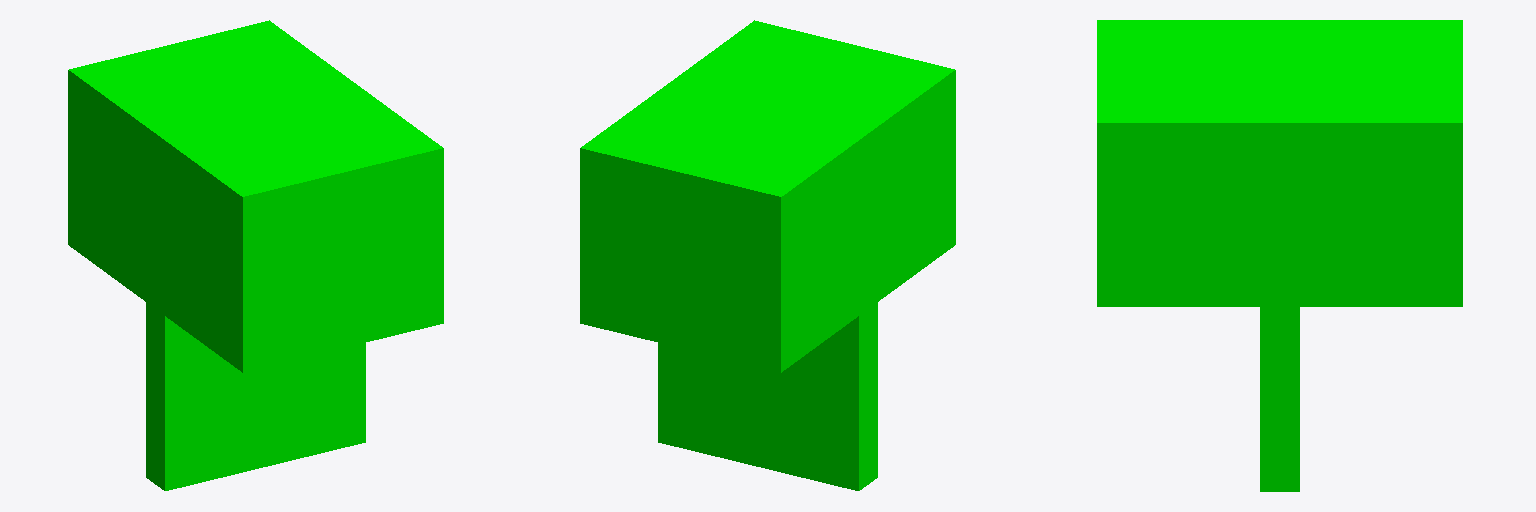
URDF robot description (robot):
<robot name = "robot">
    <link name="root">
        <inertial>
            <origin xyz="0.0 0.0 1.5" rpy="0 0 0"/>
            <mass value="1" />
            <inertia ixx="100" ixy="0" ixz="0" iyy="100" iyz="0" izz="100" />
        </inertial>
        <visual>
            <origin xyz="0.0 0.0 1.5" rpy="0 0 0"/>
            <geometry>
                <box size="0 0 0.0001" />
            </geometry>
            <material name="Green">
                <color rgba="0 1.0 0.0 1.0"/>
            </material>
        </visual>
        <collision>
            <origin xyz="0.0 0.0 1.5" rpy="0 0 0"/>
            <geometry>
                <box size="0 0 0.0001" />
            </geometry>
        </collision>
    </link>
    <joint name="root_000" type="revolute">
       <parent link="root"/>
       <child  link="000"/>
       <origin rpy="0 0 0" xyz="0.0 0.0 1.5" />
     <axis xyz="1 0 0"/>
       <limit effort="0.0" lower="-3.14159" upper="3.14159" velocity="0.0"/>
    </joint>
    <link name="000">
        <inertial>
            <origin xyz="0.0 0.0 -0.25" rpy="0 0 0"/>
            <mass value="1" />
            <inertia ixx="100" ixy="0" ixz="0" iyy="100" iyz="0" izz="100" />
        </inertial>
        <visual>
            <origin xyz="0.0 0.0 -0.25" rpy="0 0 0"/>
            <geometry>
                <box size="0.6 0.1 0.5" />
            </geometry>
            <material name="Green">
                <color rgba="0 1.0 0.0 1.0"/>
            </material>
        </visual>
        <collision>
            <origin xyz="0.0 0.0 -0.25" rpy="0 0 0"/>
            <geometry>
                <box size="0.6 0.1 0.5" />
            </geometry>
        </collision>
    </link>
    <joint name="000_010" type="revolute">
       <parent link="000"/>
       <child  link="010"/>
       <origin rpy="0 0 0" xyz="0.0 0.0 -0.5" />
     <axis xyz="0 0 1"/>
       <limit effort="0.0" lower="-3.14159" upper="3.14159" velocity="0.0"/>
    </joint>
    <link name="010">
        <inertial>
            <origin xyz="0.0 0.0 -0.25" rpy="0 0 0"/>
            <mass value="1" />
            <inertia ixx="100" ixy="0" ixz="0" iyy="100" iyz="0" izz="100" />
        </inertial>
        <visual>
            <origin xyz="0.0 0.0 -0.25" rpy="0 0 0"/>
            <geometry>
                <box size="0.6 0.1 0.5" />
            </geometry>
            <material name="Green">
                <color rgba="0 1.0 0.0 1.0"/>
            </material>
        </visual>
        <collision>
            <origin xyz="0.0 0.0 -0.25" rpy="0 0 0"/>
            <geometry>
                <box size="0.6 0.1 0.5" />
            </geometry>
        </collision>
    </link>
    <joint name="000_000-100" type="revolute">
       <parent link="000"/>
       <child  link="000-100"/>
       <origin rpy="0 0 0" xyz="0.0 0.05 -0.25" />
     <axis xyz="0 1 0"/>
       <limit effort="0.0" lower="-3.14159" upper="3.14159" velocity="0.0"/>
    </joint>
    <link name="000-100">
        <inertial>
            <origin xyz="0.0 0.1 -0.0" rpy="0 0 0"/>
            <mass value="1" />
            <inertia ixx="100" ixy="0" ixz="0" iyy="100" iyz="0" izz="100" />
        </inertial>
        <visual>
            <origin xyz="0.0 0.1 -0.0" rpy="0 0 0"/>
            <geometry>
                <box size="0.6 0.2 0.5" />
            </geometry>
            <material name="Green">
                <color rgba="0 1.0 0.0 1.0"/>
            </material>
        </visual>
        <collision>
            <origin xyz="0.0 0.1 -0.0" rpy="0 0 0"/>
            <geometry>
                <box size="0.6 0.2 0.5" />
            </geometry>
        </collision>
    </link>
    <joint name="000-100_000-110" type="revolute">
       <parent link="000-100"/>
       <child  link="000-110"/>
       <origin rpy="0 0 0" xyz="0.0 0.2 -0.0" />
     <axis xyz="0 1 0"/>
       <limit effort="0.0" lower="-3.14159" upper="3.14159" velocity="0.0"/>
    </joint>
    <link name="000-110">
        <inertial>
            <origin xyz="0.0 0.1 -0.0" rpy="0 0 0"/>
            <mass value="1" />
            <inertia ixx="100" ixy="0" ixz="0" iyy="100" iyz="0" izz="100" />
        </inertial>
        <visual>
            <origin xyz="0.0 0.1 -0.0" rpy="0 0 0"/>
            <geometry>
                <box size="0.6 0.2 0.5" />
            </geometry>
            <material name="Green">
                <color rgba="0 1.0 0.0 1.0"/>
            </material>
        </visual>
        <collision>
            <origin xyz="0.0 0.1 -0.0" rpy="0 0 0"/>
            <geometry>
                <box size="0.6 0.2 0.5" />
            </geometry>
        </collision>
    </link>
    <joint name="000_000-101" type="revolute">
       <parent link="000"/>
       <child  link="000-101"/>
       <origin rpy="0 0 0" xyz="0.0 -0.05 -0.25" />
     <axis xyz="0 1 0"/>
       <limit effort="0.0" lower="-3.14159" upper="3.14159" velocity="0.0"/>
    </joint>
    <link name="000-101">
        <inertial>
            <origin xyz="0.0 -0.1 -0.0" rpy="0 0 0"/>
            <mass value="1" />
            <inertia ixx="100" ixy="0" ixz="0" iyy="100" iyz="0" izz="100" />
        </inertial>
        <visual>
            <origin xyz="0.0 -0.1 -0.0" rpy="0 0 0"/>
            <geometry>
                <box size="0.6 0.2 0.5" />
            </geometry>
            <material name="Green">
                <color rgba="0 1.0 0.0 1.0"/>
            </material>
        </visual>
        <collision>
            <origin xyz="0.0 -0.1 -0.0" rpy="0 0 0"/>
            <geometry>
                <box size="0.6 0.2 0.5" />
            </geometry>
        </collision>
    </link>
    <joint name="000-101_000-111" type="revolute">
       <parent link="000-101"/>
       <child  link="000-111"/>
       <origin rpy="0 0 0" xyz="0.0 -0.2 -0.0" />
     <axis xyz="0 1 0"/>
       <limit effort="0.0" lower="-3.14159" upper="3.14159" velocity="0.0"/>
    </joint>
    <link name="000-111">
        <inertial>
            <origin xyz="0.0 -0.1 -0.0" rpy="0 0 0"/>
            <mass value="1" />
            <inertia ixx="100" ixy="0" ixz="0" iyy="100" iyz="0" izz="100" />
        </inertial>
        <visual>
            <origin xyz="0.0 -0.1 -0.0" rpy="0 0 0"/>
            <geometry>
                <box size="0.6 0.2 0.5" />
            </geometry>
            <material name="Green">
                <color rgba="0 1.0 0.0 1.0"/>
            </material>
        </visual>
        <collision>
            <origin xyz="0.0 -0.1 -0.0" rpy="0 0 0"/>
            <geometry>
                <box size="0.6 0.2 0.5" />
            </geometry>
        </collision>
    </link>
</robot>

--- What the picture shows (computed from the rendered views, not written in the file) ---
Views: 3 orthographic renders of the robot side by side, from view 1: azimuth 30°, elevation 25°; view 2: azimuth 150°, elevation 25°; view 3: azimuth 270°, elevation 25°.
Robot: robot — 7 links, 6 joints (6 revolute); root link root; default pose: all joints at 0.
Links seen in each view (by area): view 1: 000-111, 010, 000-100, 000-101, 000-110, 000; view 2: 000-110, 010, 000-100, 000-101, 000-111, 000; view 3: 000-100, 000-101, 000-110, 000-111, 000, 010.
Boxes of the visible links, box(x1,y1,x2,y2) form: 000-111: box(204, 120, 443, 372); 010: box(146, 302, 365, 490); 000-100: box(107, 49, 345, 301); 000-101: box(165, 91, 404, 343); 000-110: box(68, 20, 307, 272); 000: box(146, 77, 365, 315); 000-110: box(580, 120, 819, 372); 010: box(658, 302, 877, 490); 000-100: box(619, 91, 858, 343); 000-101: box(678, 49, 916, 301); 000-111: box(716, 20, 955, 272); 000: box(658, 77, 877, 315); 000-100: box(1300, 20, 1381, 306); 000-101: box(1178, 20, 1259, 306); 000-110: box(1382, 20, 1462, 306); 000-111: box(1097, 20, 1177, 306); 000: box(1260, 20, 1299, 306); 010: box(1260, 307, 1299, 491).
Size in the robot's own frame: 0.6 by 0.9 by 1 metres.
Geometry: primitives only (box / cylinder / sphere), no mesh files.